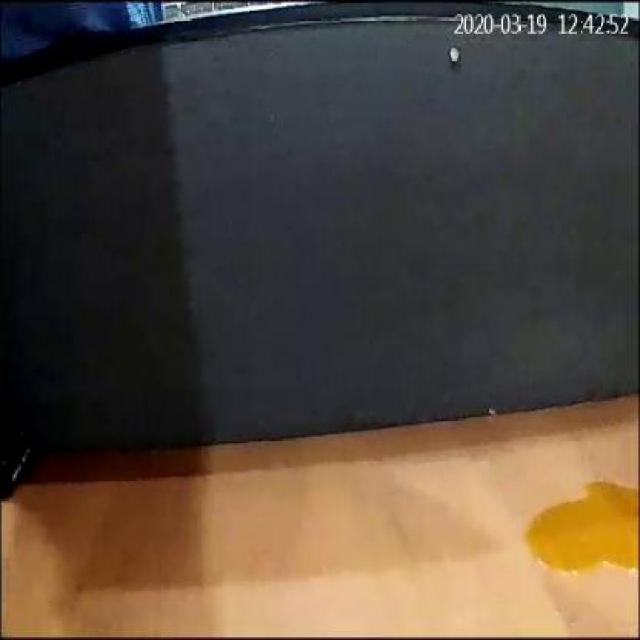spill: (521, 482, 634, 570)
